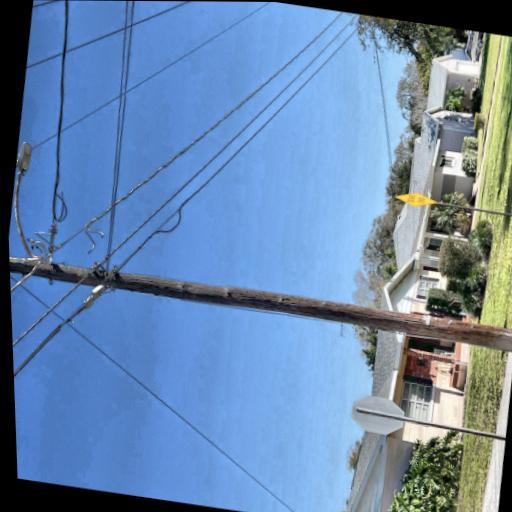pole: (38, 0, 148, 488)
street light: (102, 90, 219, 154)
